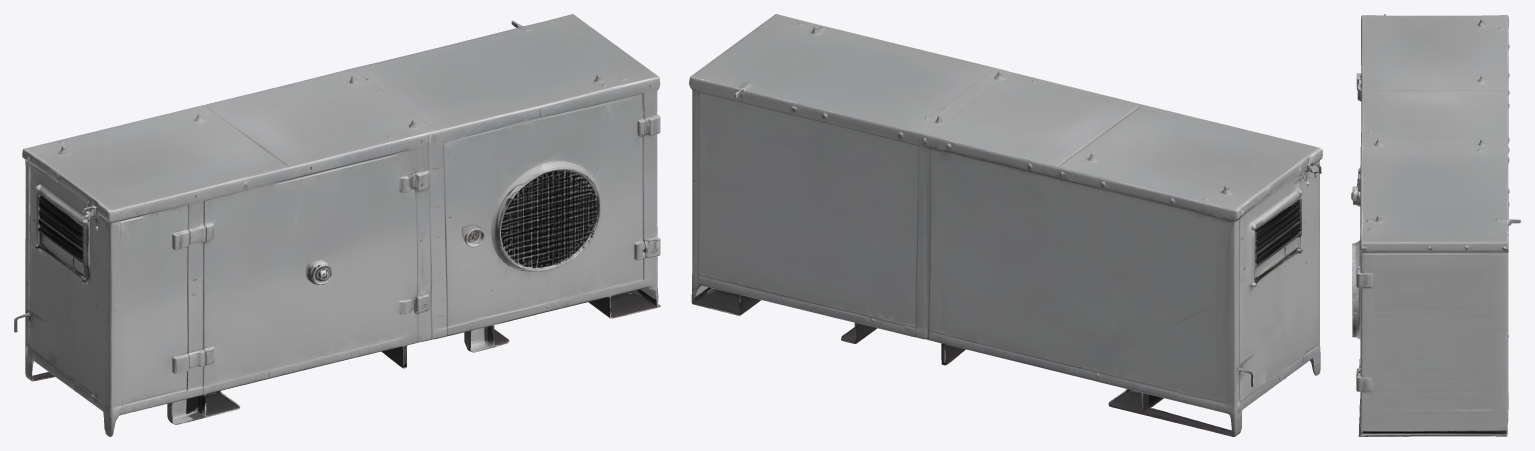
Rendered from base_variant_c_pbr.glb.
3 renders of one model, left to right at view 1: azimuth 30°, elevation 25°; view 2: azimuth 150°, elevation 25°; view 3: azimuth 270°, elevation 25°, orthographic. The views are drawn at different scales.
Visible parts, largest first — view 1: model; view 2: model; view 3: model.
Part boxes in pixels (left/top/right/bottom): model: left=14, top=14, right=660, bottom=436; model: left=689, top=14, right=1322, bottom=436; model: left=1351, top=14, right=1520, bottom=436.
Bounding box in the file's own units: 1.9 × 0.7623 × 0.5808.
Materials: 1 (1 with a texture image).
